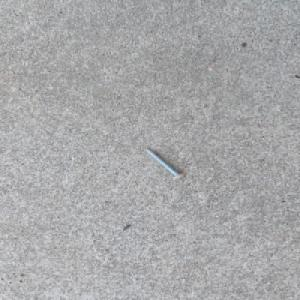Screw: (143, 147, 186, 179)
